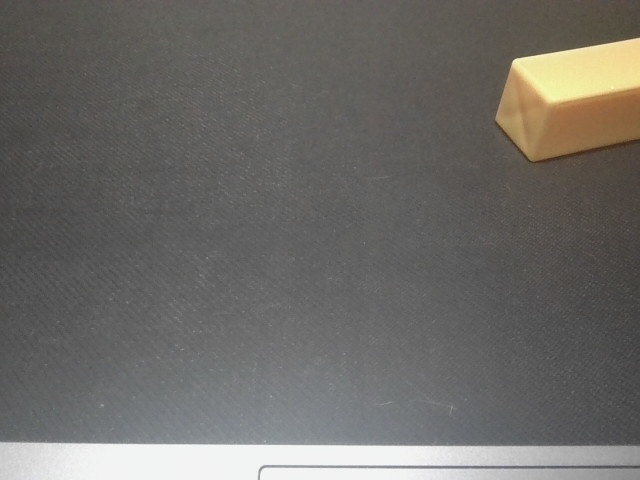YellowSample: (488, 32, 640, 164)
